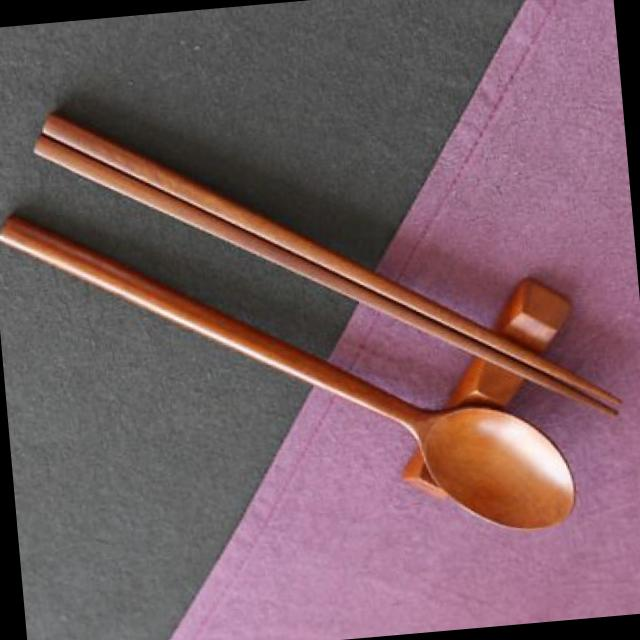spoon: (2, 196, 592, 548)
